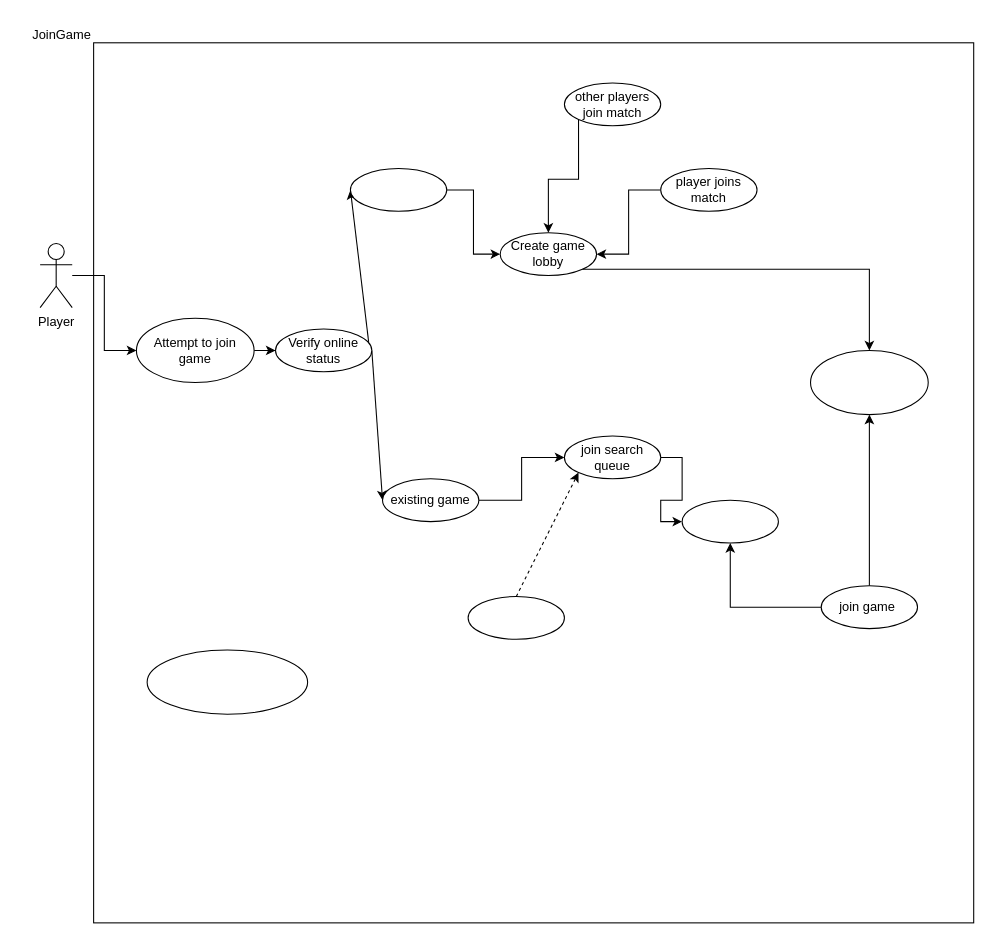
Image size: 992x942. Some labels were removed from this diagram. The shapes that lost their labels are listed below. From the top down, each one's box as (x1, y1, x2, y2) in pixels, then its label:
(349, 167, 447, 211): New game
(809, 349, 928, 415): Update status
(681, 499, 778, 543): find existing game lobby
(467, 595, 564, 639): Cancel join request
(146, 649, 308, 714): Choose between existing game or new game
